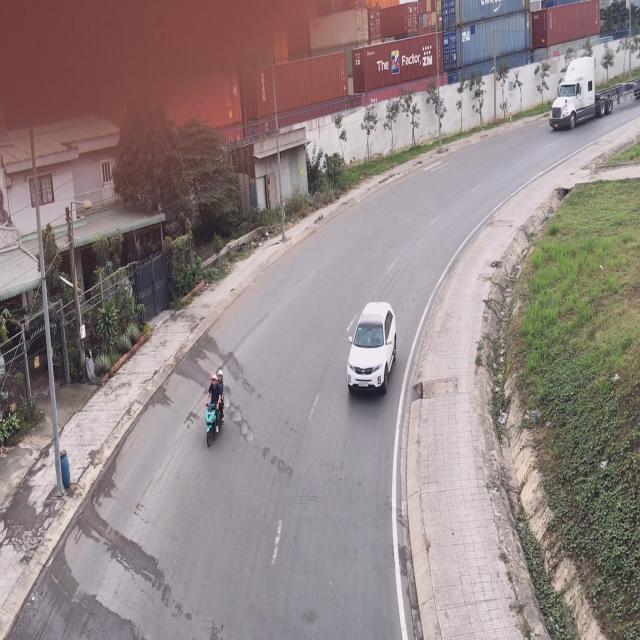car: (346, 300, 397, 398)
motorbike: (203, 359, 235, 447)
truck: (549, 54, 640, 134)
